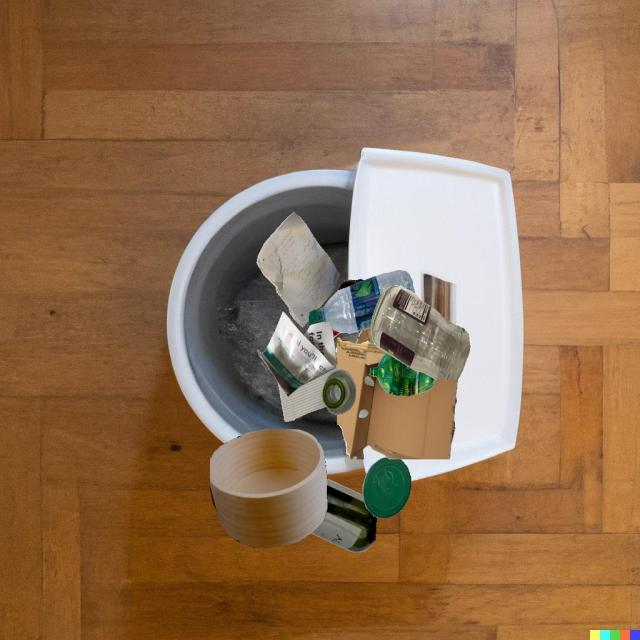biowaste: (336, 355, 337, 360)
cardboard: (337, 338, 458, 460), (356, 328, 373, 344)
combustible waste: (210, 429, 327, 548)
glass: (370, 285, 470, 380), (311, 478, 377, 552), (322, 369, 356, 414), (337, 279, 364, 292)
metal: (332, 329, 361, 356)
paper: (256, 212, 340, 327), (257, 312, 337, 397), (278, 353, 338, 422)
plastic: (309, 270, 415, 333), (362, 457, 411, 518), (370, 353, 436, 397), (380, 273, 385, 275)
